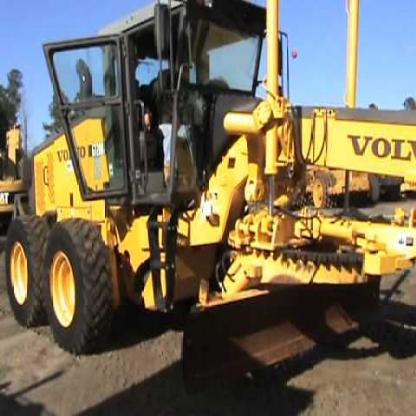bull_dozer/loader/grader: (5, 5, 415, 414)
